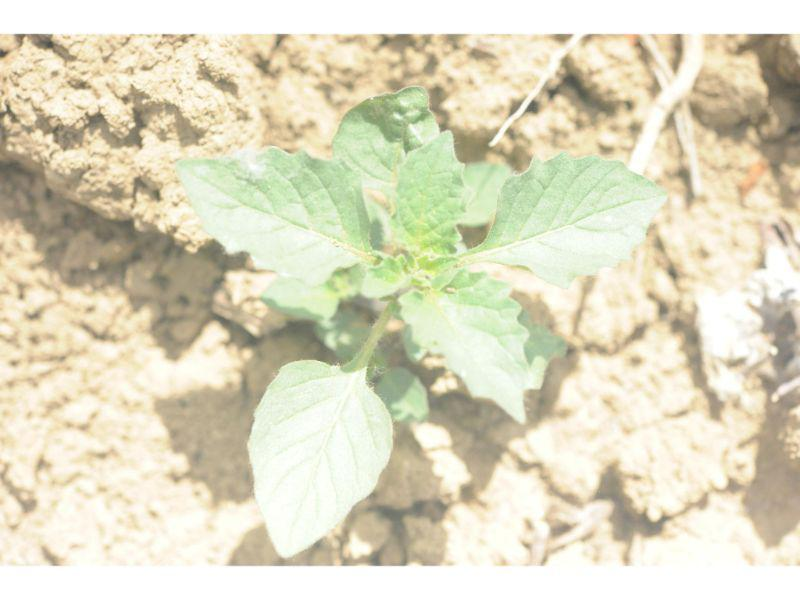nightshade: (173, 87, 669, 558)
